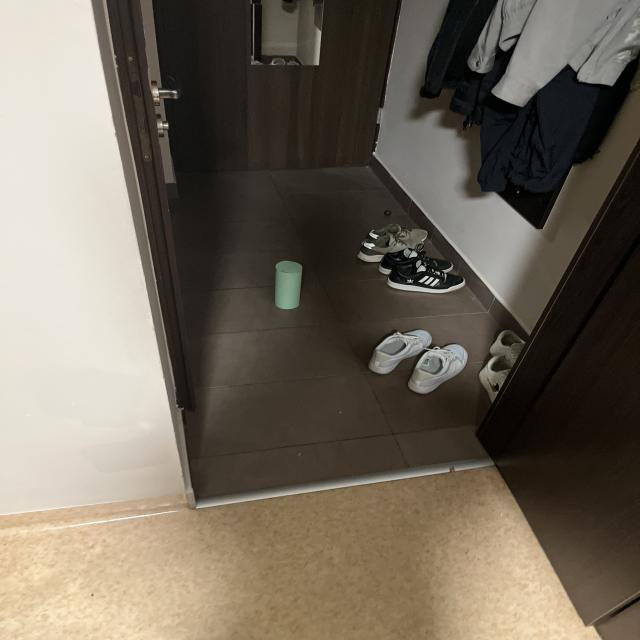meta: (274, 261, 302, 310)
